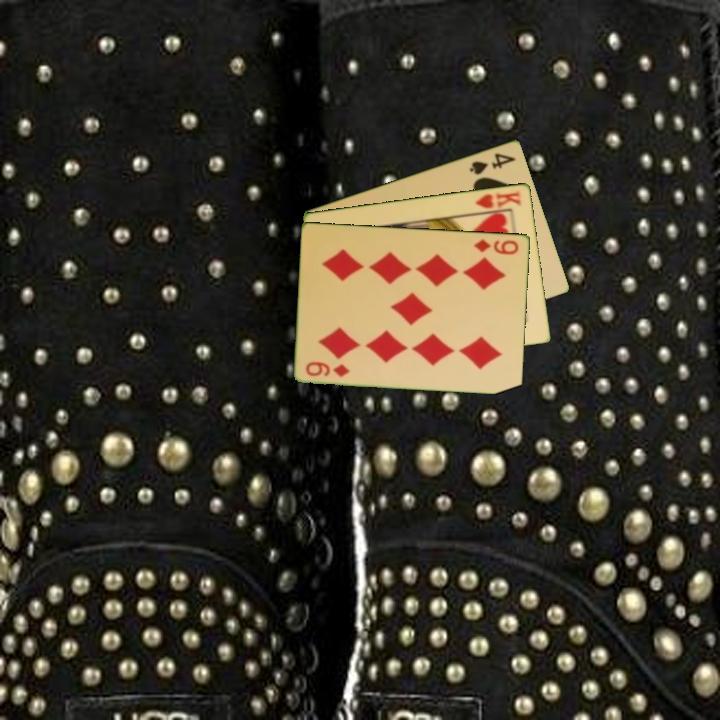4s: (466, 149, 519, 177)
9d: (471, 235, 522, 257), (303, 358, 353, 379)
Kh: (470, 186, 523, 216)
